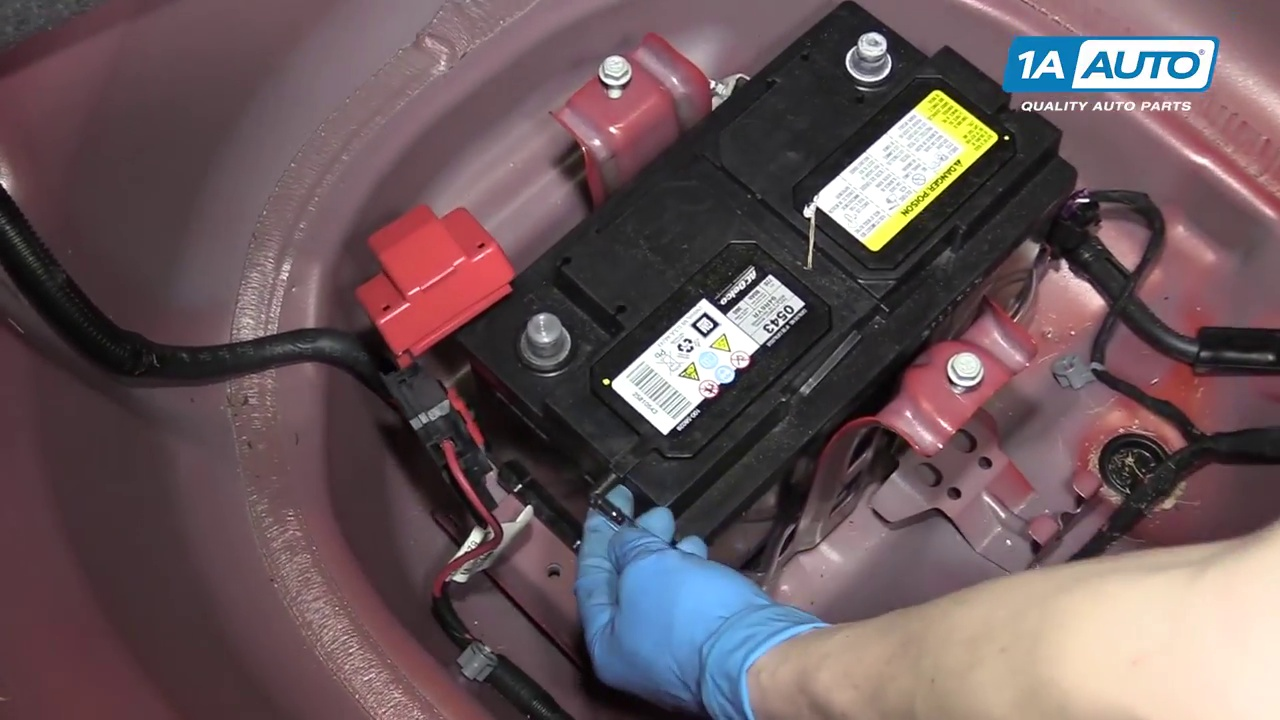battery: (484, 18, 1046, 505)
neg_disconnected: (810, 29, 919, 97)
pos_disconnected: (331, 218, 594, 389)
